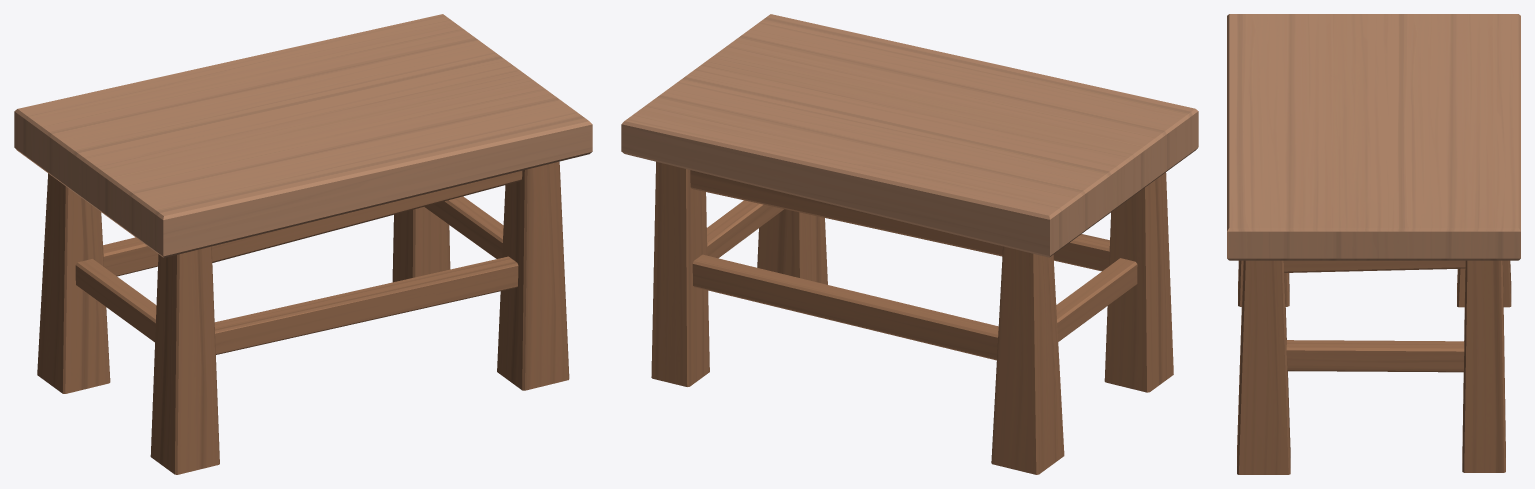
Rendered from Desk.fbx.
The picture shows the model from 3 angles, left to right: view 1: azimuth 30°, elevation 25°; view 2: azimuth 150°, elevation 25°; view 3: azimuth 270°, elevation 25°; orthographic projection.
Parts seen in each view (by area): view 1: Desk; view 2: Desk; view 3: Desk.
Part boxes in pixels (bbox=[...]): Desk: bbox=[14, 14, 592, 474]; Desk: bbox=[621, 14, 1198, 474]; Desk: bbox=[1227, 14, 1520, 474].
Size of the model in its own units: 150 by 89.09 by 90.14.
Materials: 1 (1 with a texture image).
